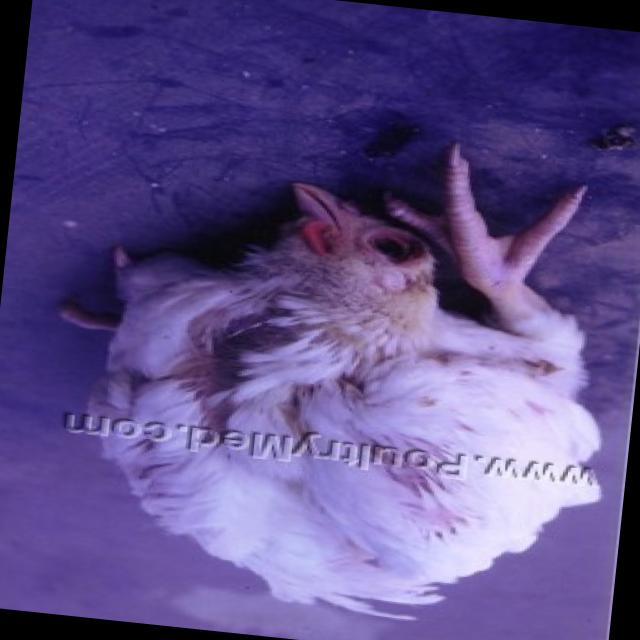newcastle: (15, 119, 640, 640)
